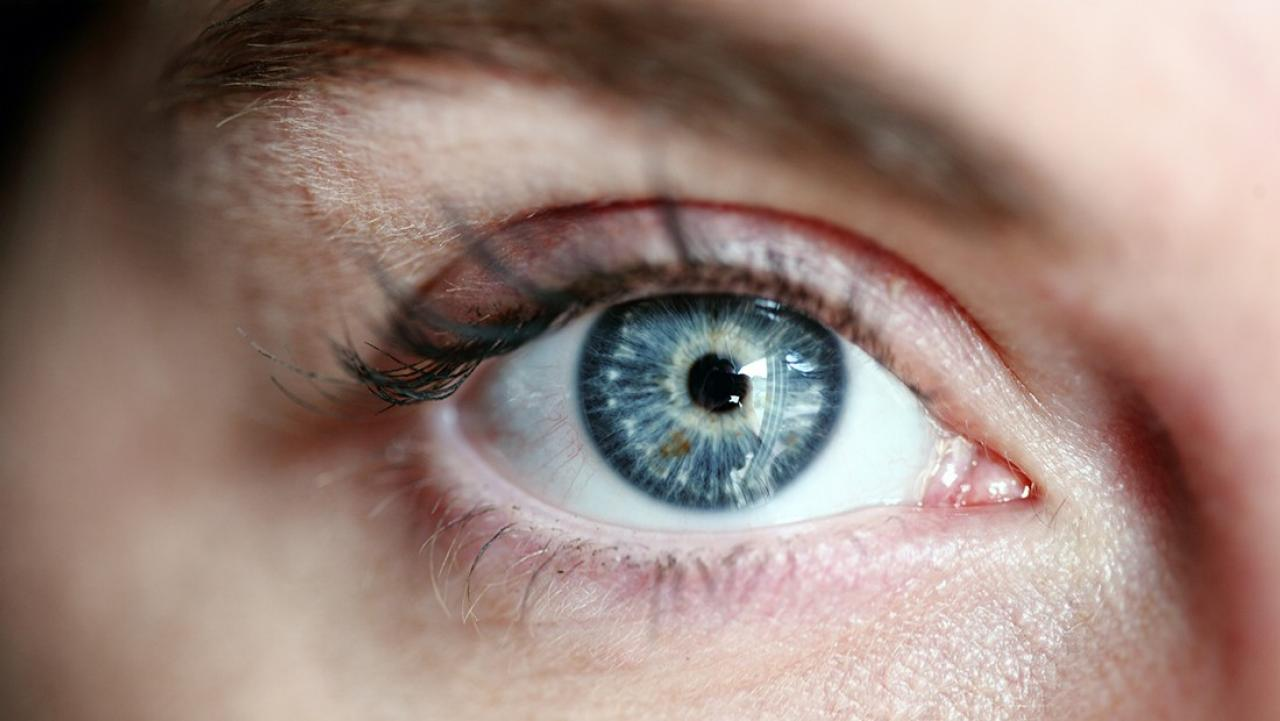iris: (577, 282, 846, 511)
pupil: (685, 355, 751, 413)
